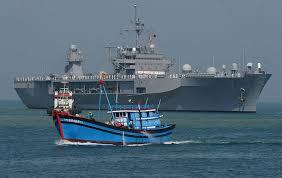Ship: (15, 5, 273, 113), (53, 107, 176, 146), (54, 87, 81, 115)
